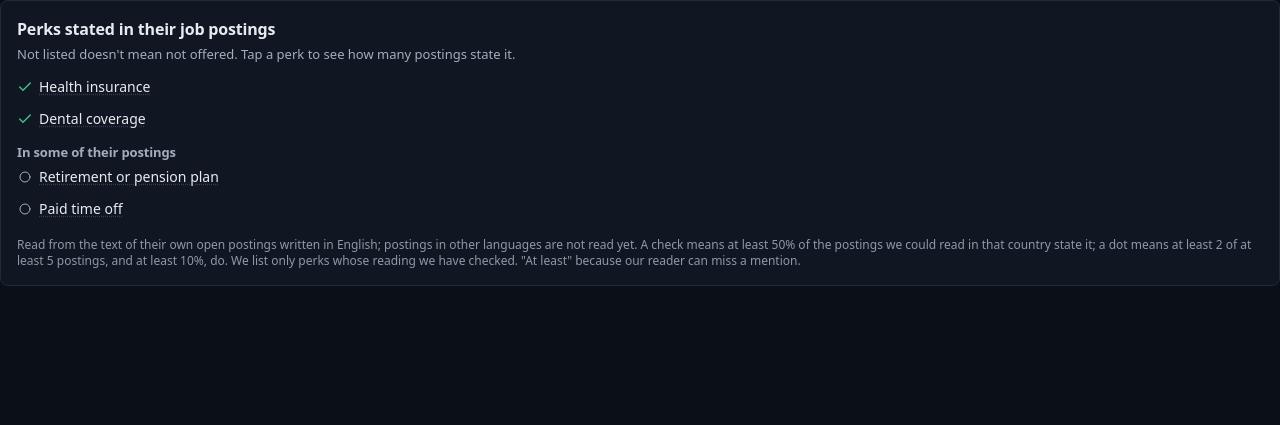
Test: the quote is marked as English (WCAG 3.1.2 Language of Parts) › the panel's blockquote and the hover preview's quote carry lang=en, whatever the page language
This screenshot has width=1280, height=425.
Click the button "Health insurance": (84, 87) [17,71,150,103]
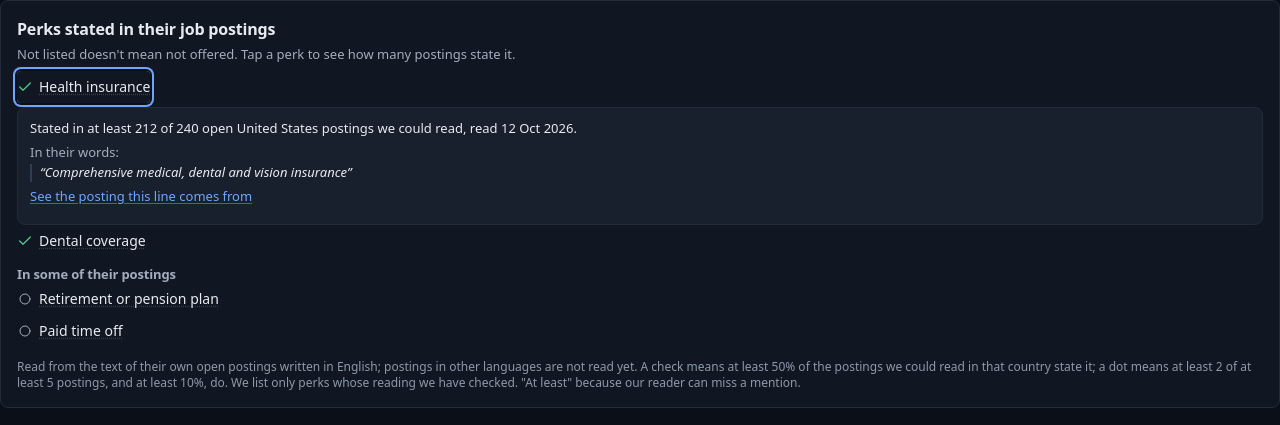
Expected: the text "“Comprehensive medical, dental and vision insurance”" is shown, [30,164,1250,182]
Hover over the button "Dental coverage": (81, 241) [17,225,146,257]
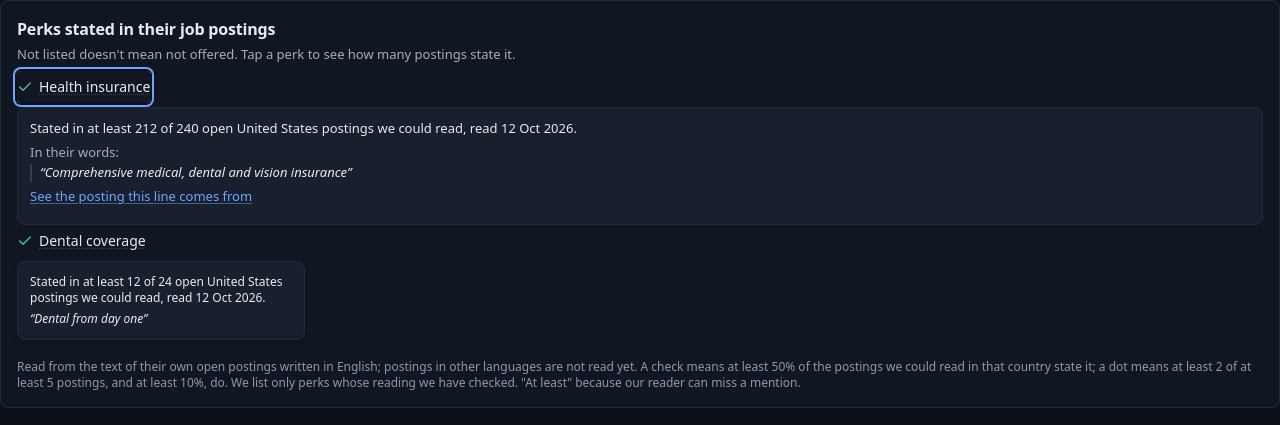
Expected: the text "“Dental from day one”" is shown, [30,310,147,327]
